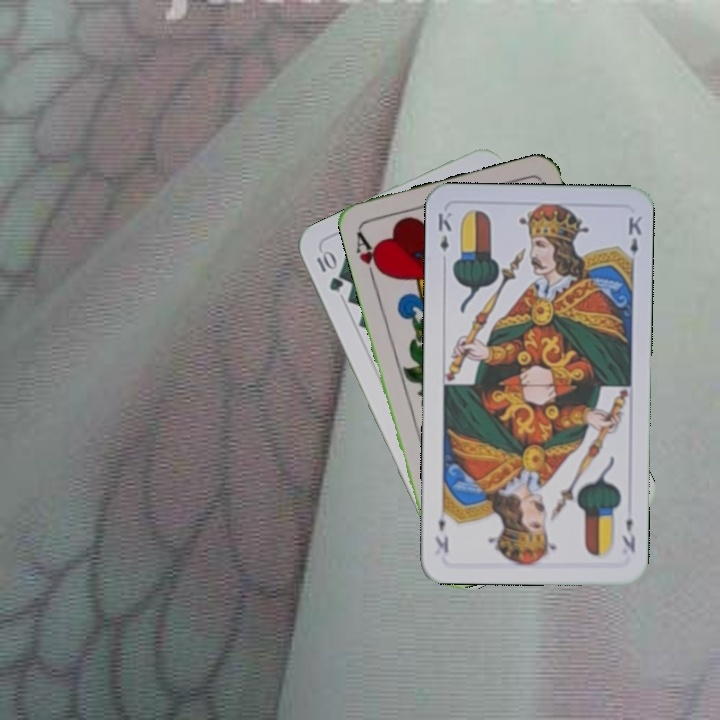EK: (434, 208, 454, 254), (618, 514, 638, 555)
G10: (312, 246, 346, 294)
HA: (352, 226, 387, 285)
